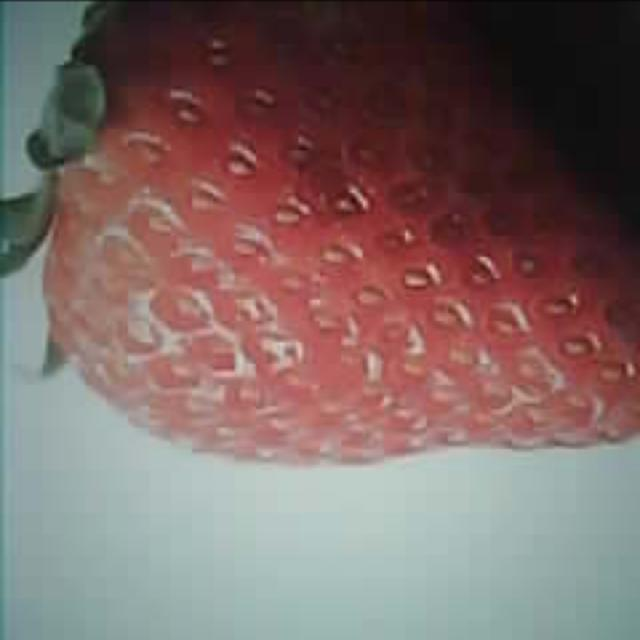ripe: (48, 1, 640, 467)
